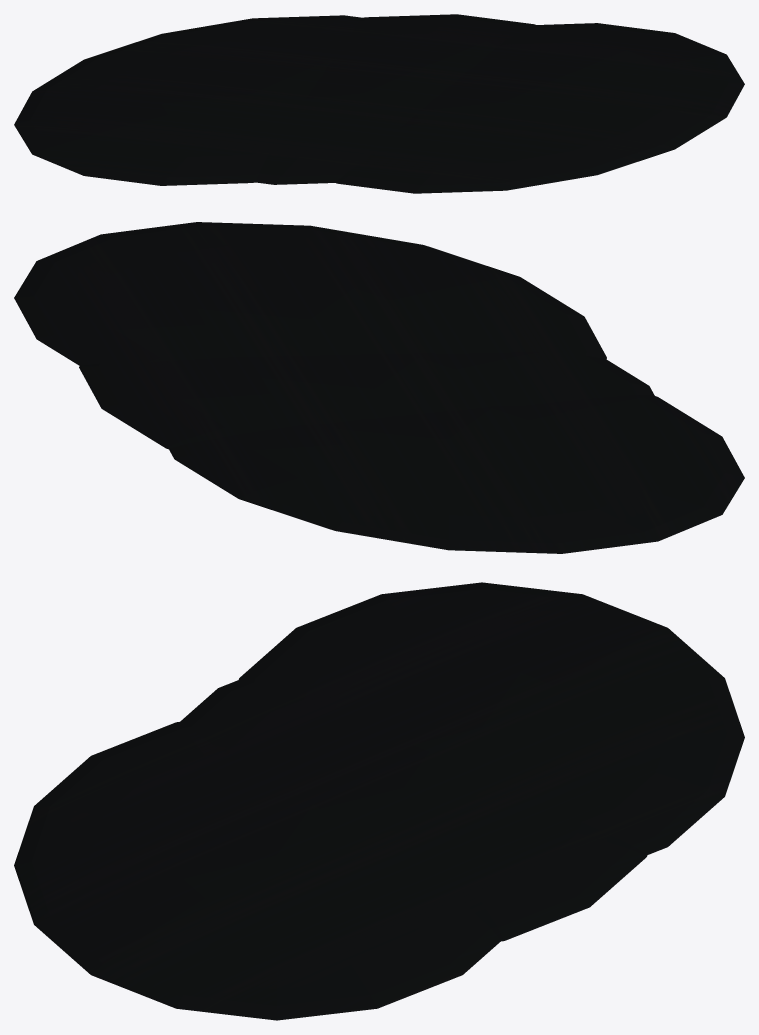
File: PROP-8D841B97F4C1_lod0.glb
3 views of the same model, one above another, from view 1: azimuth 30°, elevation 25°; view 2: azimuth 150°, elevation 25°; view 3: azimuth 270°, elevation 25° (orthographic). The views are drawn at different scales.
Parts seen in each view (by area): view 1: surface_hazard.002; view 2: surface_hazard.002; view 3: surface_hazard.002.
Part boxes in pixels (box(x1,y1,x2,y2)): surface_hazard.002: box(14, 14, 744, 193); surface_hazard.002: box(14, 222, 744, 553); surface_hazard.002: box(14, 582, 744, 1020).
Bounding box in the file's own units: 1.68 × 0.036 × 1.18.
Materials: 1 (1 with a texture image).
